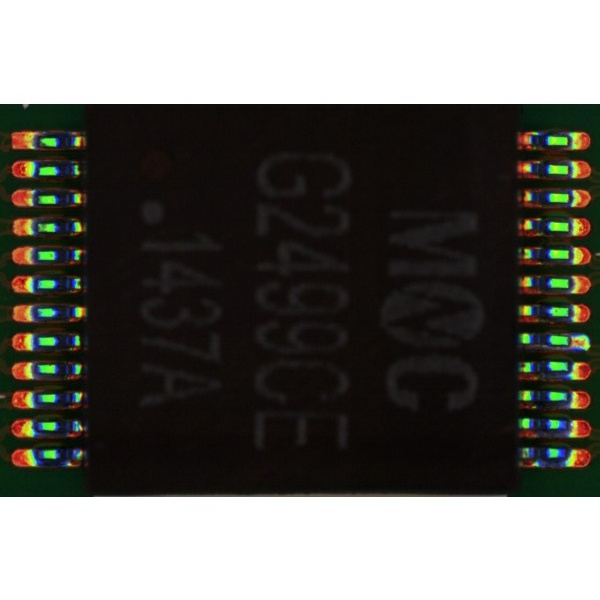Bad_podu: (561, 335, 578, 343)
Bad_qiaojiao: (521, 344, 571, 349)
